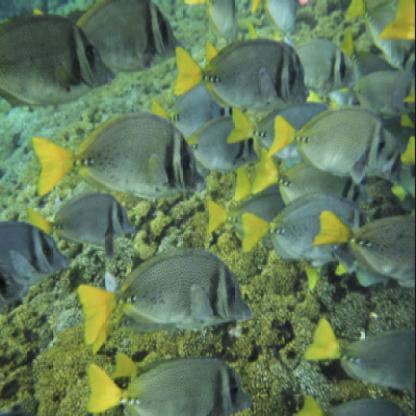Acanthuridae -Surgeonfishes-: (32, 109, 208, 206), (78, 250, 255, 345), (1, 13, 120, 105), (268, 105, 393, 185), (174, 38, 312, 108), (242, 192, 365, 266), (90, 360, 252, 414), (318, 208, 416, 288), (180, 115, 260, 170)
